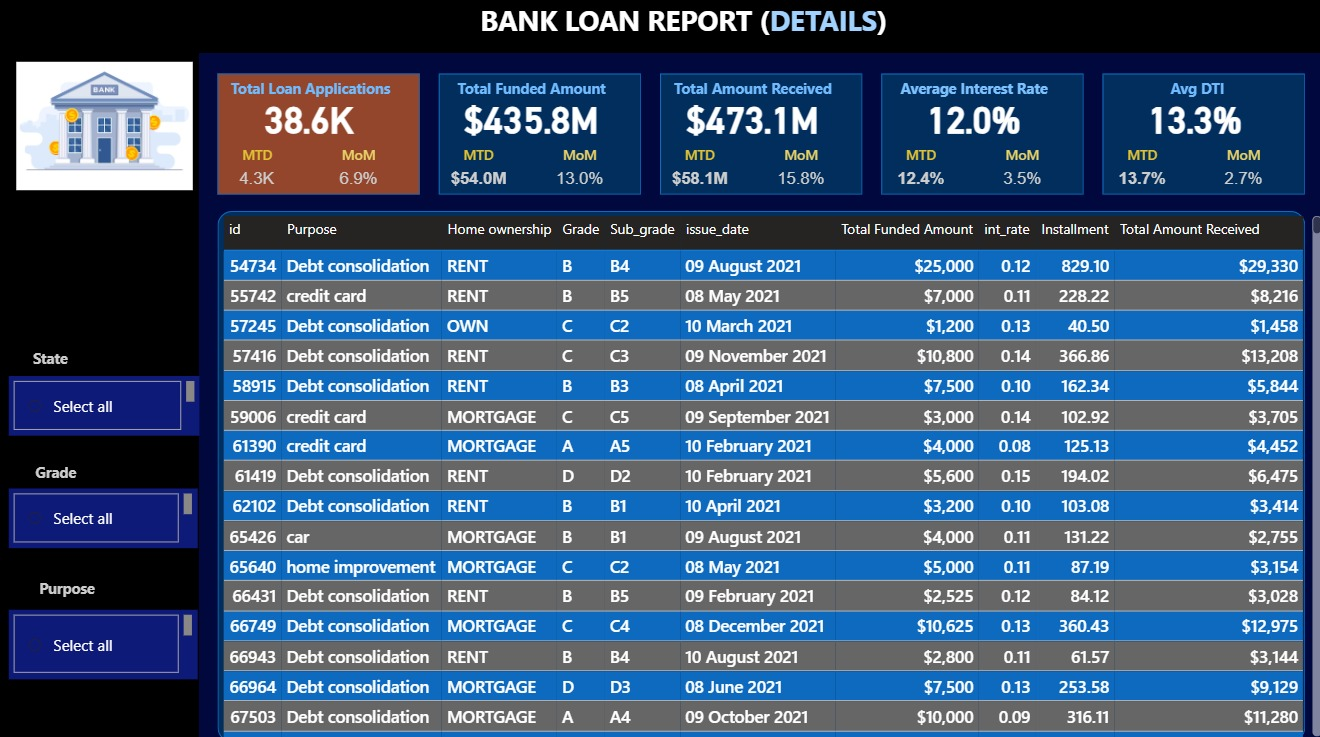

The page's visual inventory and layout, read from the dashboard file:
{"tool":"powerbi","page":{"name":"Details","canvas":[1280,720],"ordinal":2},"visuals":[{"type":"shape","box":[0,0,1280.3,55],"z":0},{"type":"shape","box":[0,54.9,192,665.5],"z":1000},{"type":"textbox","box":[458.3,0,458.3,50.8],"z":2000},{"type":"shape","box":[209.5,75.4,195.5,117],"z":2000,"group":"g1"},{"type":"shape","box":[423.1,75.4,195.5,117],"z":2000,"group":"g2"},{"type":"shape","box":[636.7,75.4,195.5,117],"z":2000,"group":"g3"},{"type":"shape","box":[850.3,75.4,195.5,117],"z":2000,"group":"g4"},{"type":"shape","box":[1063.9,75.4,195.5,117],"z":2000,"group":"g5"},{"type":"group","id":"g1","title":"Group 1","box":[192.7,75.4,212.2,117.3],"z":3000},{"type":"advanceCardE03760C5AB684758B56AA29F9E6C257B","fields":{"mainMeasure":["bank_loan_data.Total Loan Applications"]},"box":[192.7,75.4,212.2,90.8],"z":4000,"group":"g1"},{"type":"group","id":"g2","title":"Group 1","box":[406.3,75.4,212.2,117.3],"z":4000},{"type":"advanceCardE03760C5AB684758B56AA29F9E6C257B","fields":{"mainMeasure":["bank_loan_data.Total Funded Amount"]},"box":[406.3,75.4,212.2,90.8],"z":4000,"group":"g2"},{"type":"advanceCardE03760C5AB684758B56AA29F9E6C257B","fields":{"mainMeasure":["bank_loan_data.Total Amount Received"]},"box":[619.9,75.4,212.2,90.8],"z":4000,"group":"g3"},{"type":"advanceCardE03760C5AB684758B56AA29F9E6C257B","fields":{"mainMeasure":["bank_loan_data.Avg Interest Rate"]},"box":[833.5,75.4,212.2,90.8],"z":4000,"group":"g4"},{"type":"advanceCardE03760C5AB684758B56AA29F9E6C257B","fields":{"mainMeasure":["bank_loan_data.Avg DTI"]},"box":[1047.1,75.4,212.2,90.8],"z":4000,"group":"g5"},{"type":"textbox","box":[216.4,75.4,164.7,36.3],"z":5000,"group":"g1"},{"type":"textbox","box":[430,75.4,164.7,36.3],"z":5000,"group":"g2"},{"type":"group","id":"g3","title":"Group 1","box":[619.9,75.4,212.2,117.3],"z":5000},{"type":"textbox","box":[643.6,75.4,164.7,36.3],"z":5000,"group":"g3"},{"type":"textbox","box":[857.2,75.4,164.7,36.3],"z":5000,"group":"g4"},{"type":"textbox","box":[1070.8,75.4,164.7,36.3],"z":5000,"group":"g5"},{"type":"group","id":"g4","title":"Group 1","box":[833.5,75.4,212.2,117.3],"z":6000},{"type":"advanceCardE03760C5AB684758B56AA29F9E6C257B","title":"MTD","fields":{"mainMeasure":["bank_loan_data.MTD Loan Applications"]},"box":[209.5,143.8,76.8,48.9],"z":6000,"group":"g1"},{"type":"advanceCardE03760C5AB684758B56AA29F9E6C257B","title":"MTD","fields":{"mainMeasure":["bank_loan_data.MTD Funded Amount"]},"box":[423.1,143.8,76.8,48.9],"z":6000,"group":"g2"},{"type":"advanceCardE03760C5AB684758B56AA29F9E6C257B","title":"MTD","fields":{"mainMeasure":["bank_loan_data.MTD Amount Received"]},"box":[636.7,143.8,76.8,48.9],"z":6000,"group":"g3"},{"type":"advanceCardE03760C5AB684758B56AA29F9E6C257B","title":"MTD","fields":{"mainMeasure":["bank_loan_data.MTD Avg Interest RAte"]},"box":[850.3,143.8,76.8,48.9],"z":6000,"group":"g4"},{"type":"advanceCardE03760C5AB684758B56AA29F9E6C257B","title":"MTD","fields":{"mainMeasure":["bank_loan_data.MTD Avg DTI"]},"box":[1063.9,143.8,76.8,48.9],"z":6000,"group":"g5"},{"type":"group","id":"g5","title":"Group 1","box":[1047.1,75.4,212.2,117.3],"z":7000},{"type":"advanceCardE03760C5AB684758B56AA29F9E6C257B","title":"MoM","fields":{"mainMeasure":["bank_loan_data.MoM Loan Applications"]},"box":[307.2,143.8,76.8,48.9],"z":7000,"group":"g1"},{"type":"advanceCardE03760C5AB684758B56AA29F9E6C257B","title":"MoM","fields":{"mainMeasure":["bank_loan_data.MoM Total Funded Amount"]},"box":[520.8,143.8,76.8,48.9],"z":7000,"group":"g2"},{"type":"advanceCardE03760C5AB684758B56AA29F9E6C257B","title":"MoM","fields":{"mainMeasure":["bank_loan_data.MoM Total Amount Received"]},"box":[734.4,143.8,76.8,48.9],"z":7000,"group":"g3"},{"type":"advanceCardE03760C5AB684758B56AA29F9E6C257B","title":"MoM","fields":{"mainMeasure":["bank_loan_data.MoM Avg Interest Rate"]},"box":[948,143.8,76.8,48.9],"z":7000,"group":"g4"},{"type":"advanceCardE03760C5AB684758B56AA29F9E6C257B","title":"MoM","fields":{"mainMeasure":["bank_loan_data.MoM Avg DTI"]},"box":[1161.6,143.8,76.8,48.9],"z":7000,"group":"g5"},{"type":"shape","box":[209.4,208,1049.9,512.4],"z":8000},{"type":"advancedSlicerVisual","fields":{"Values":["bank_loan_data.address_state"]},"box":[8.9,366.9,184.2,57.9],"z":9000},{"type":"textbox","box":[8.9,335.7,80.2,31.2],"z":10000},{"type":"advancedSlicerVisual","fields":{"Values":["bank_loan_data.grade"]},"box":[8.9,475.3,182.7,57.9],"z":11000},{"type":"textbox","box":[8.9,445.6,90.6,29.7],"z":12000},{"type":"advancedSlicerVisual","fields":{"Values":["bank_loan_data.purpose"]},"box":[8.9,592.6,182.7,66.8],"z":13000},{"type":"textbox","box":[19.3,557,90.6,35.6],"z":14000},{"type":"tableEx","fields":{"Values":["bank_loan_data.id","bank_loan_data.purpose","bank_loan_data.home_ownership","bank_loan_data.grade","bank_loan_data.sub_grade","bank_loan_data.issue_date","bank_loan_data.Total Funded Amount","bank_loan_data.int_rate","bank_loan_data.installment","bank_loan_data.Total Amount Received"]},"box":[209.4,208,1070.9,512.4],"z":15000},{"type":"image","box":[15.4,50.3,170.3,149.4],"z":16000}]}

Visuals, with their boxes in screenshot pixels (x1, y1, x2, y2), scaled from the page's 1280x720 canvas onto the 1320x737 screenshot:
shape: [left=0, top=0, right=1319, bottom=56]
shape: [left=0, top=56, right=198, bottom=736]
textbox: [left=473, top=0, right=945, bottom=52]
shape: [left=216, top=77, right=418, bottom=197]
shape: [left=436, top=77, right=638, bottom=197]
shape: [left=657, top=77, right=858, bottom=197]
shape: [left=877, top=77, right=1078, bottom=197]
shape: [left=1097, top=77, right=1299, bottom=197]
"Group 1" group: [left=199, top=77, right=418, bottom=197]
advanceCardE03760C5AB684758B56AA29F9E6C257B - bank_loan_data.Total Loan Applications: [left=199, top=77, right=418, bottom=170]
"Group 1" group: [left=419, top=77, right=638, bottom=197]
advanceCardE03760C5AB684758B56AA29F9E6C257B - bank_loan_data.Total Funded Amount: [left=419, top=77, right=638, bottom=170]
advanceCardE03760C5AB684758B56AA29F9E6C257B - bank_loan_data.Total Amount Received: [left=639, top=77, right=858, bottom=170]
advanceCardE03760C5AB684758B56AA29F9E6C257B - bank_loan_data.Avg Interest Rate: [left=860, top=77, right=1078, bottom=170]
advanceCardE03760C5AB684758B56AA29F9E6C257B - bank_loan_data.Avg DTI: [left=1080, top=77, right=1299, bottom=170]
textbox: [left=223, top=77, right=393, bottom=114]
textbox: [left=443, top=77, right=613, bottom=114]
"Group 1" group: [left=639, top=77, right=858, bottom=197]
textbox: [left=664, top=77, right=834, bottom=114]
textbox: [left=884, top=77, right=1054, bottom=114]
textbox: [left=1104, top=77, right=1274, bottom=114]
"Group 1" group: [left=860, top=77, right=1078, bottom=197]
"MTD" advanceCardE03760C5AB684758B56AA29F9E6C257B: [left=216, top=147, right=295, bottom=197]
"MTD" advanceCardE03760C5AB684758B56AA29F9E6C257B: [left=436, top=147, right=516, bottom=197]
"MTD" advanceCardE03760C5AB684758B56AA29F9E6C257B: [left=657, top=147, right=736, bottom=197]
"MTD" advanceCardE03760C5AB684758B56AA29F9E6C257B: [left=877, top=147, right=956, bottom=197]
"MTD" advanceCardE03760C5AB684758B56AA29F9E6C257B: [left=1097, top=147, right=1176, bottom=197]
"Group 1" group: [left=1080, top=77, right=1299, bottom=197]
"MoM" advanceCardE03760C5AB684758B56AA29F9E6C257B: [left=317, top=147, right=396, bottom=197]
"MoM" advanceCardE03760C5AB684758B56AA29F9E6C257B: [left=537, top=147, right=616, bottom=197]
"MoM" advanceCardE03760C5AB684758B56AA29F9E6C257B: [left=757, top=147, right=837, bottom=197]
"MoM" advanceCardE03760C5AB684758B56AA29F9E6C257B: [left=978, top=147, right=1057, bottom=197]
"MoM" advanceCardE03760C5AB684758B56AA29F9E6C257B: [left=1198, top=147, right=1277, bottom=197]
shape: [left=216, top=213, right=1299, bottom=736]
advancedSlicerVisual - bank_loan_data.address_state: [left=9, top=376, right=199, bottom=435]
textbox: [left=9, top=344, right=92, bottom=376]
advancedSlicerVisual - bank_loan_data.grade: [left=9, top=487, right=198, bottom=546]
textbox: [left=9, top=456, right=103, bottom=487]
advancedSlicerVisual - bank_loan_data.purpose: [left=9, top=607, right=198, bottom=675]
textbox: [left=20, top=570, right=113, bottom=607]
tableEx - bank_loan_data.id x bank_loan_data.purpose: [left=216, top=213, right=1319, bottom=736]
image: [left=16, top=51, right=192, bottom=204]
